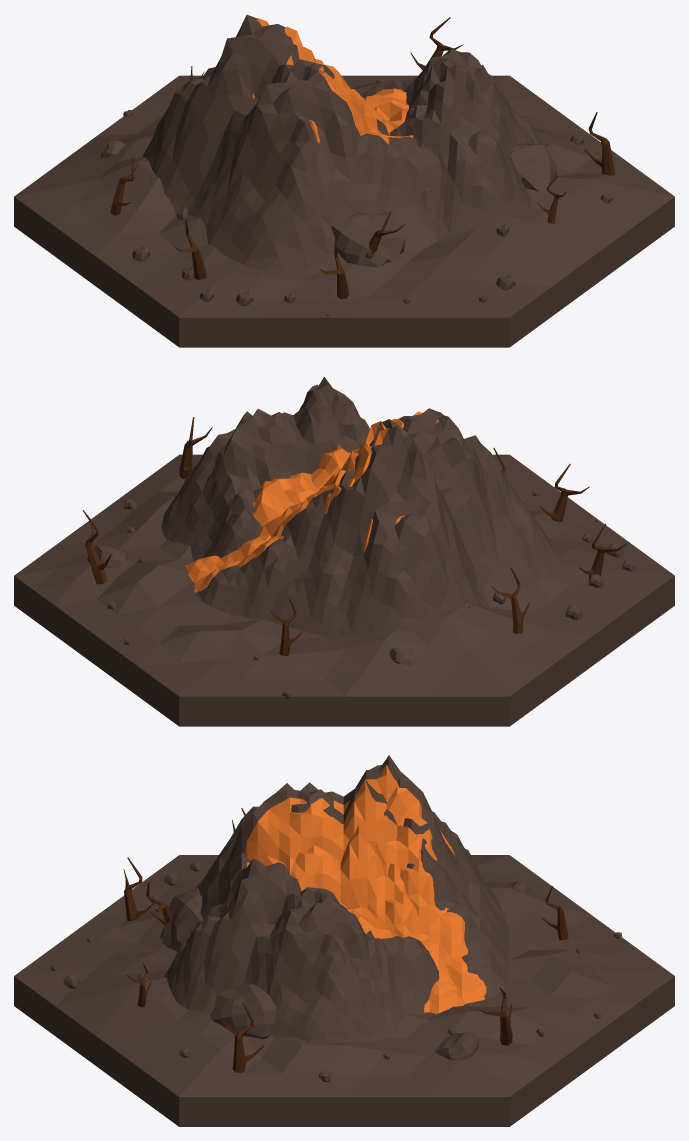
Rendered from scorchedvolcano.glb.
3 views of the same model, one above another, from view 1: azimuth 30°, elevation 25°; view 2: azimuth 150°, elevation 25°; view 3: azimuth 270°, elevation 25° (orthographic).
Parts seen in each view (by area): view 1: land, volcano, rocks, Cylinder.001; view 2: land, volcano, Cylinder.001, rocks; view 3: land, volcano, rocks, Cylinder.001.
Part boxes in pixels (x1,y1,x2,y2): land: (14, 75, 674, 347); volcano: (143, 14, 543, 277); rocks: (100, 78, 612, 316); Cylinder.001: (110, 17, 614, 299); land: (14, 454, 674, 726); volcano: (161, 376, 559, 636); Cylinder.001: (82, 417, 626, 656); rocks: (87, 463, 636, 698); land: (14, 855, 674, 1126); volcano: (164, 755, 510, 1043); rocks: (50, 861, 621, 1082); Cylinder.001: (123, 808, 568, 1072).
Size of the model in its own units: 1.73 by 0.7151 by 2.
